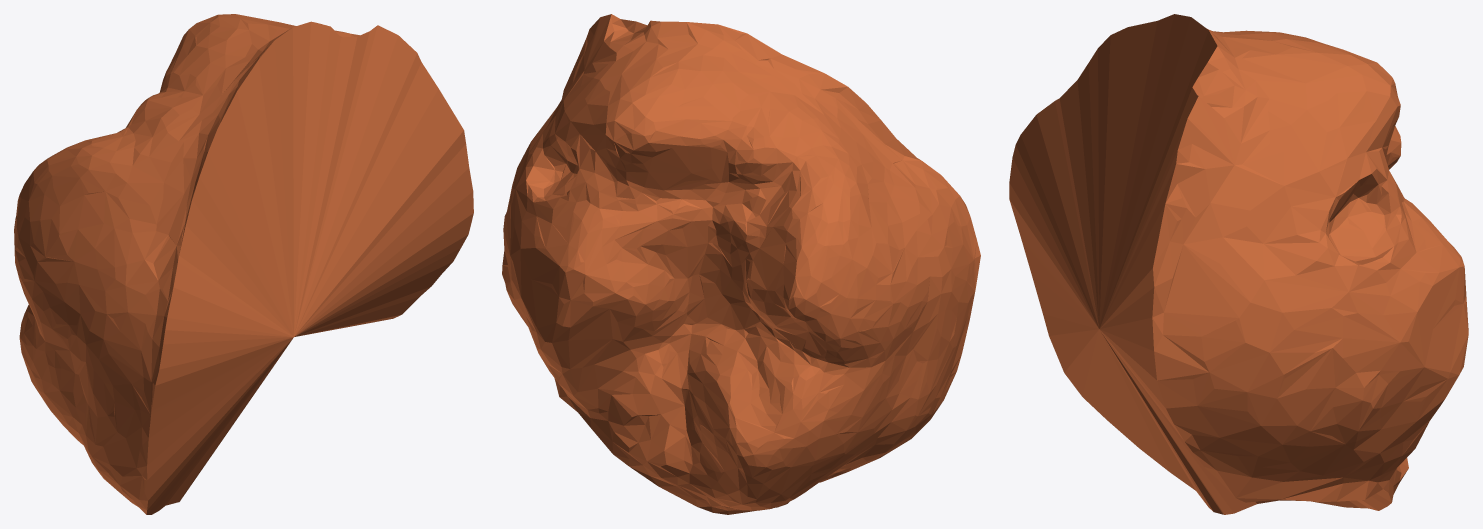
File: Crown_17__Demo_Virtual_Patient.obj
3 views of the same model, side by side, from view 1: azimuth 30°, elevation 25°; view 2: azimuth 150°, elevation 25°; view 3: azimuth 270°, elevation 25° (orthographic). The views are drawn at different scales.
Bounding box in the file's own units: 11.29 × 12.37 × 9.33.
